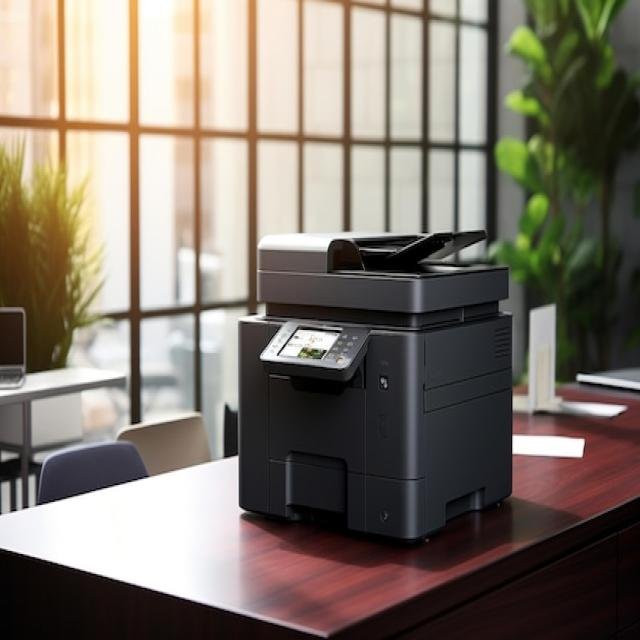printer: (236, 227, 513, 543)
